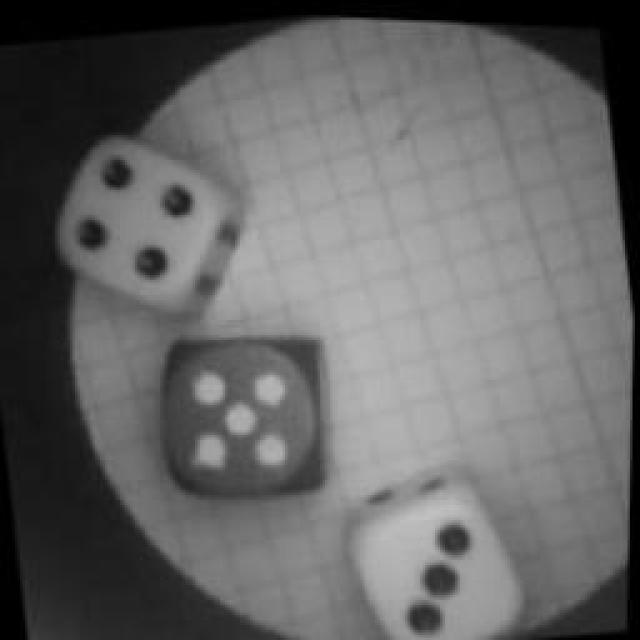dice_3: (325, 442, 537, 640)
dice_4: (26, 106, 259, 334)
dice_5: (138, 299, 358, 521)
